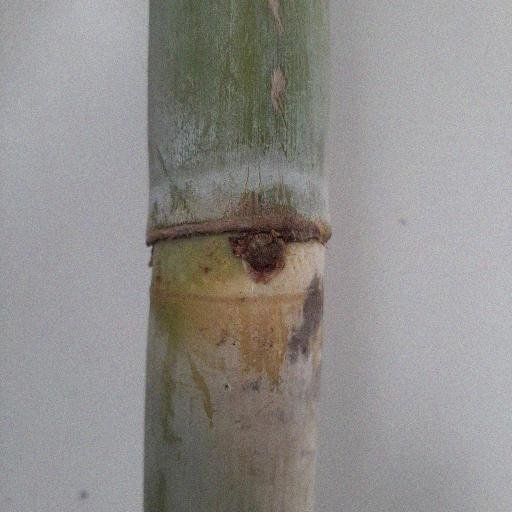Bud: (245, 234, 283, 277)
